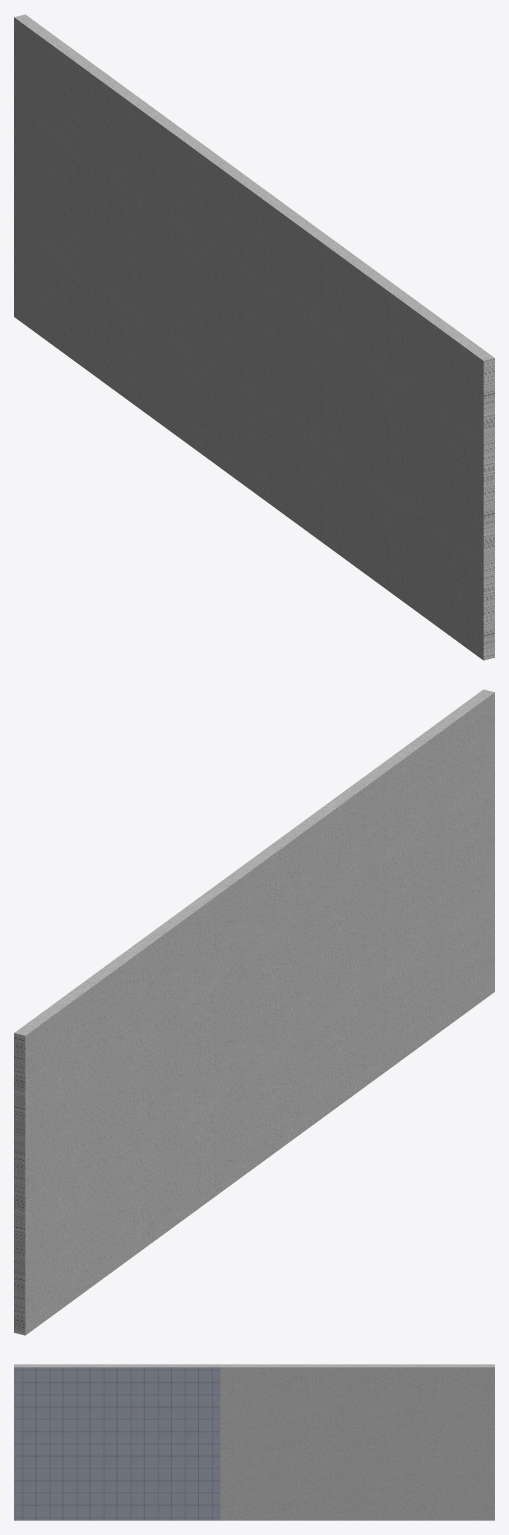
File: wall_3.obj
The picture shows the model from 3 angles, top to bottom: view 1: azimuth 30°, elevation 25°; view 2: azimuth 150°, elevation 25°; view 3: azimuth 270°, elevation 25°; orthographic projection. The views are drawn at different scales.
Visible parts, largest first — view 1: polySurface2 wall_4; view 2: polySurface2 wall_4; view 3: polySurface2 wall_4.
Boxes of the visible parts, <box> form: polySurface2 wall_4: <box>14,14,494,660</box>; polySurface2 wall_4: <box>14,689,494,1335</box>; polySurface2 wall_4: <box>14,1364,494,1520</box>.
Size of the model in its own units: 0.1 by 2.5 by 7.1.
Materials: 2 (2 with a texture image).
